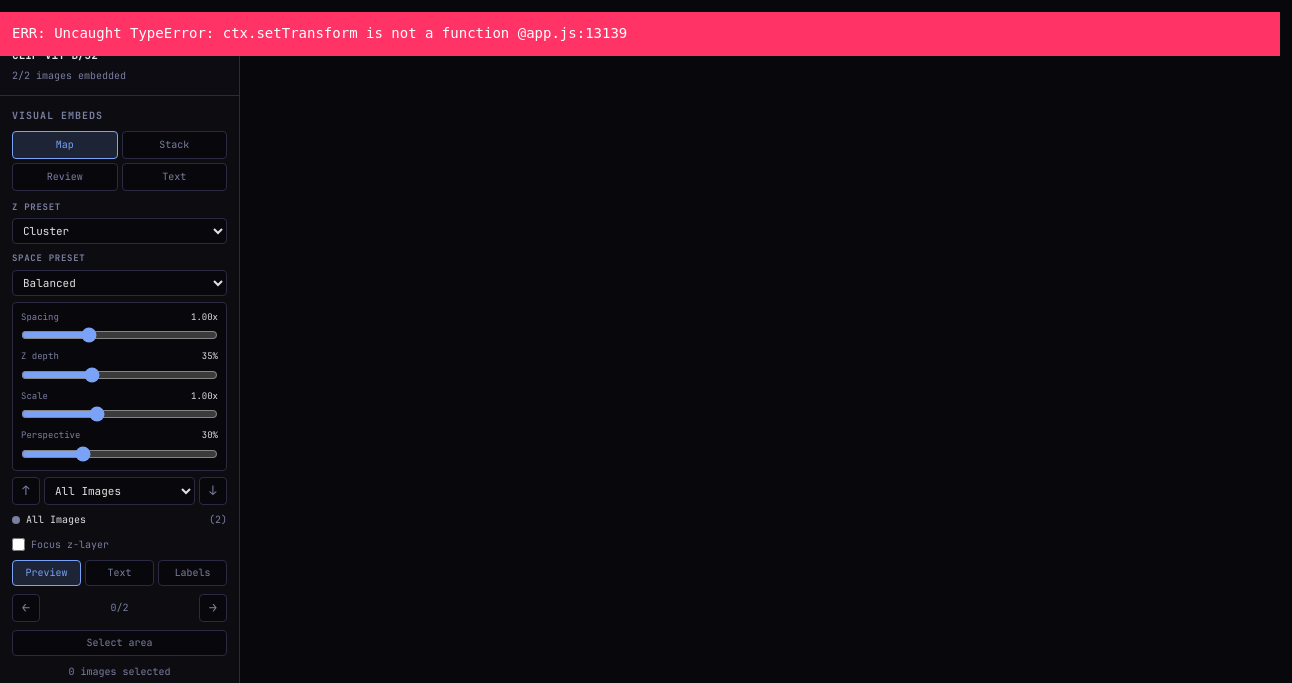
Test: Embedding Explorer library scope › supports keyboard point selection and Escape from a focused selection control
The width and height of the screenshot is (1292, 683).
Click the button with aria-label "Select an area of the embedding map".
click(120, 642)  # box x1=12 y1=630 x2=227 y2=656
(page scrolled)
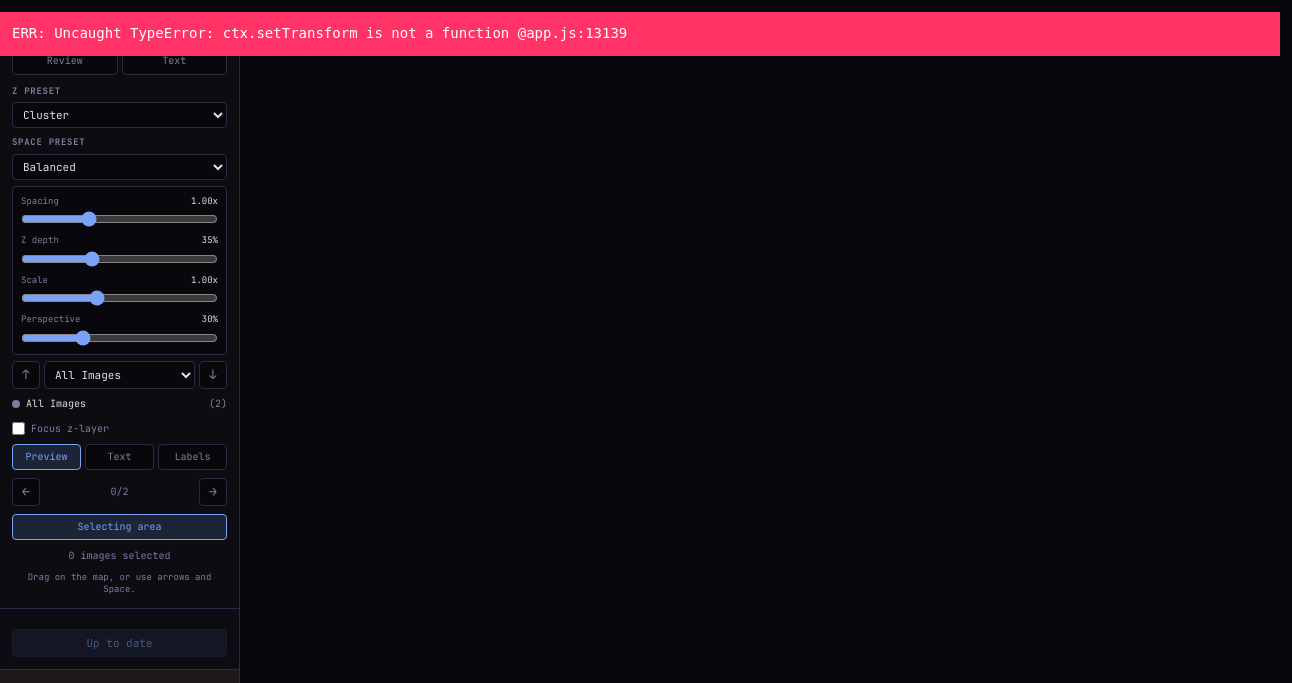
Type keys "{ArrowRight} {Shift>}{ArrowRight}{/Shift}"
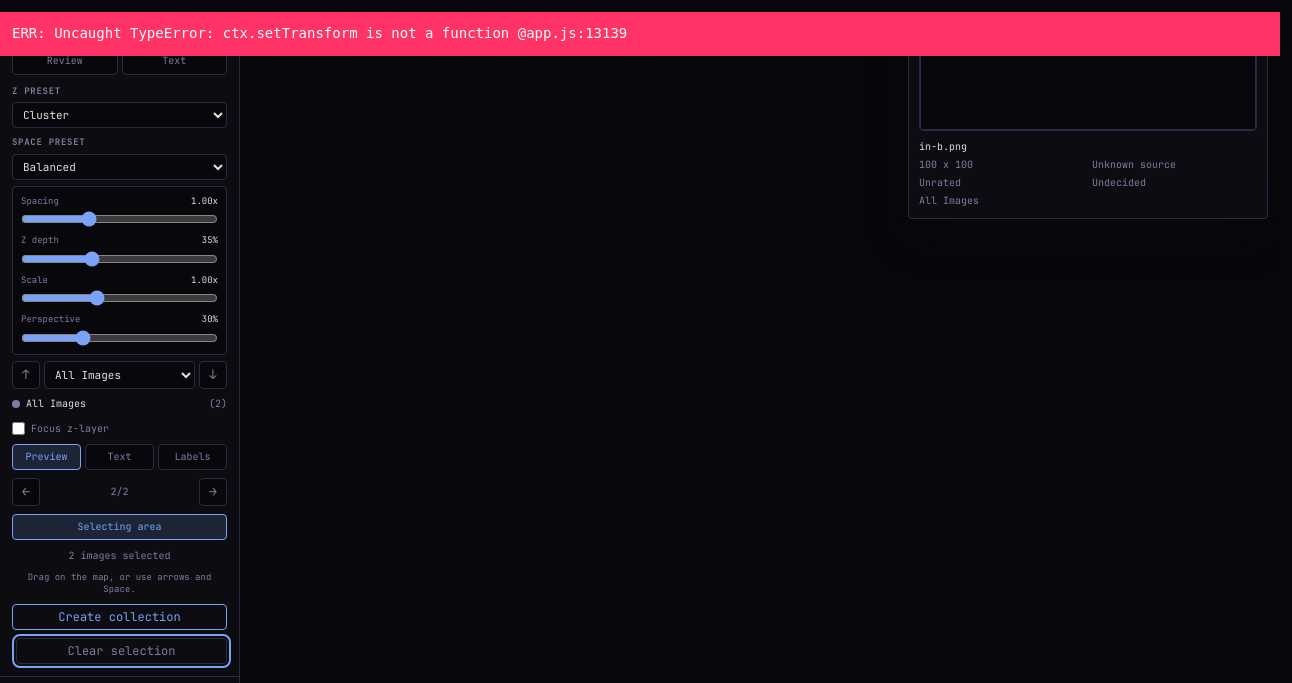
Now the text "2 images selected" is shown, box x1=68 y1=548 x2=170 y2=562
Press Escape
(page scrolled)
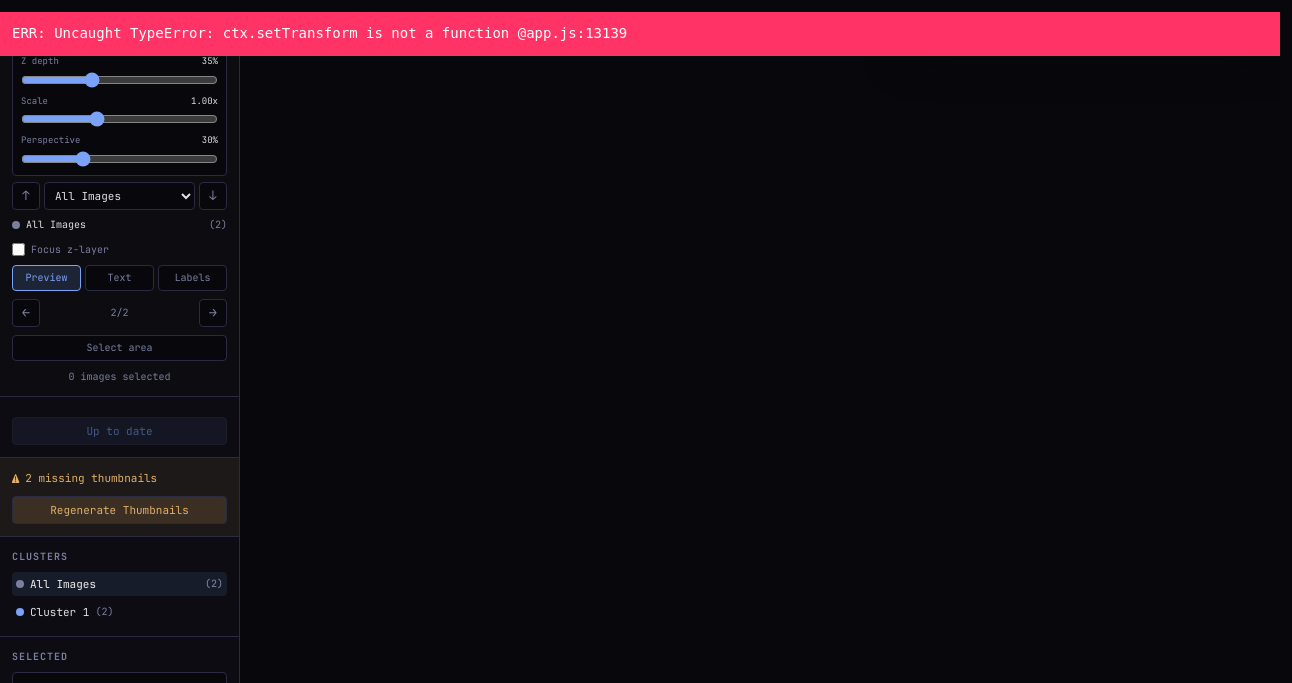
Now the text "0 images selected" is shown, box x1=68 y1=370 x2=170 y2=382
Now the button "Clear selection" is gone
